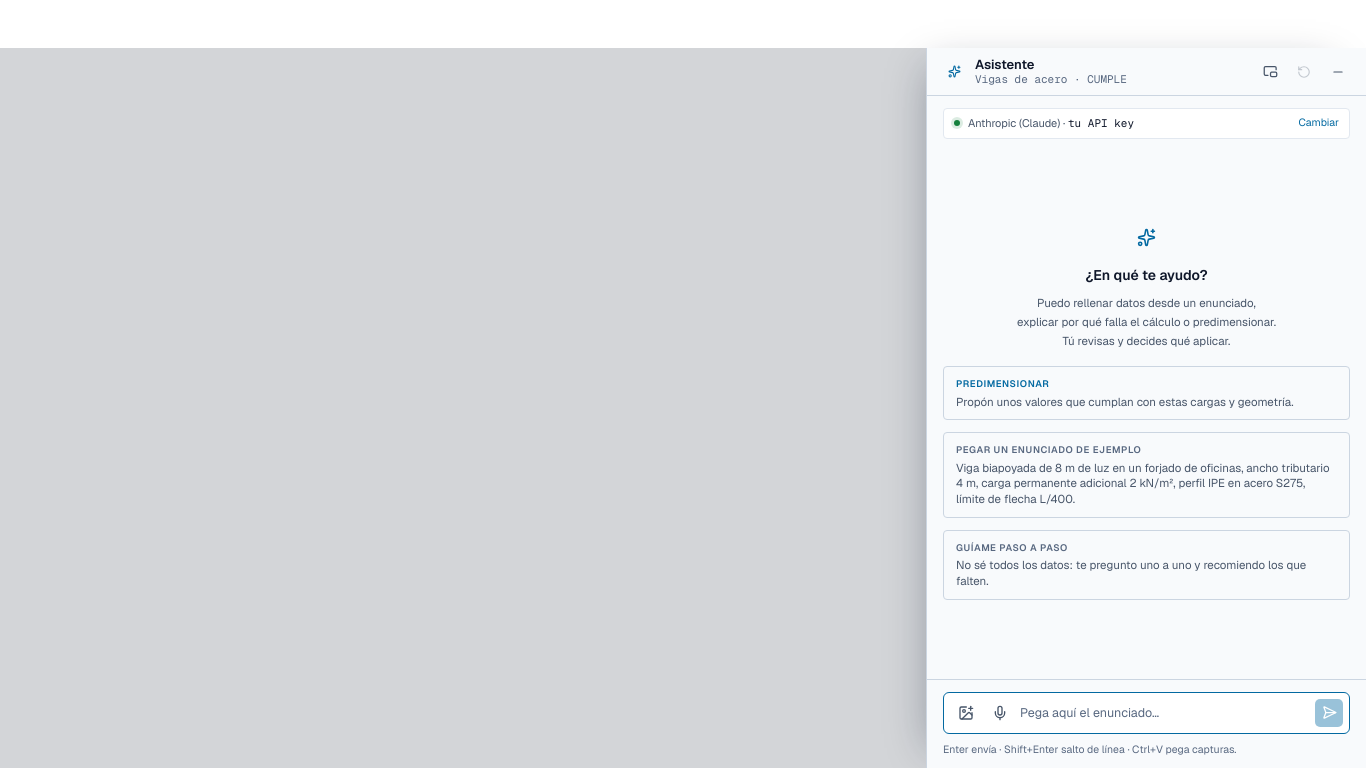
it: AiChatModal — guardarraíl de seguridad a lo largo del hilo › el hilo MUEVE un valor que ya había confirmado → fila roja e interlock (fuga 1, intacta)
In the text box named "Mensaje para el asistente": coordinates (1164, 713) [1020,700,1309,726], type "Las vigas van cada 3 m"
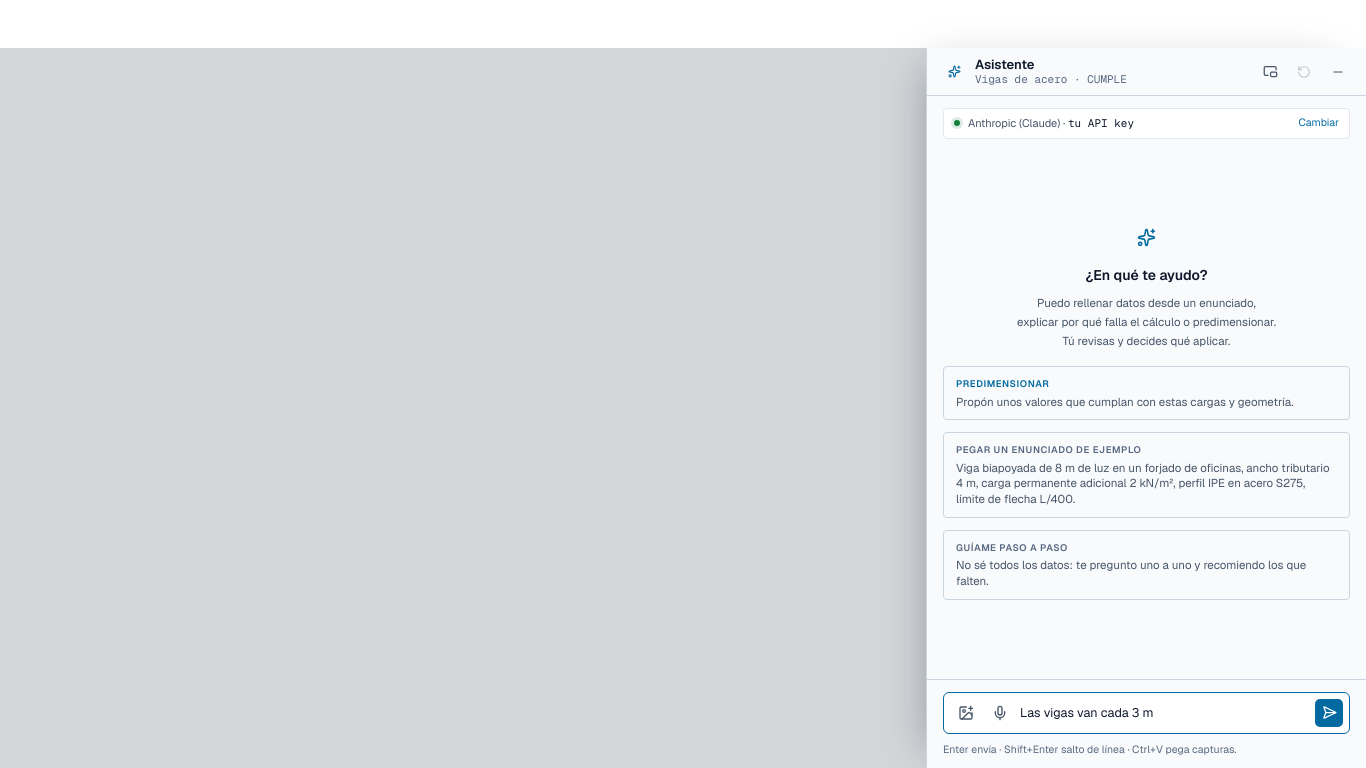
Press Enter in the text box named "Mensaje para el asistente", box [1020,700,1309,726]
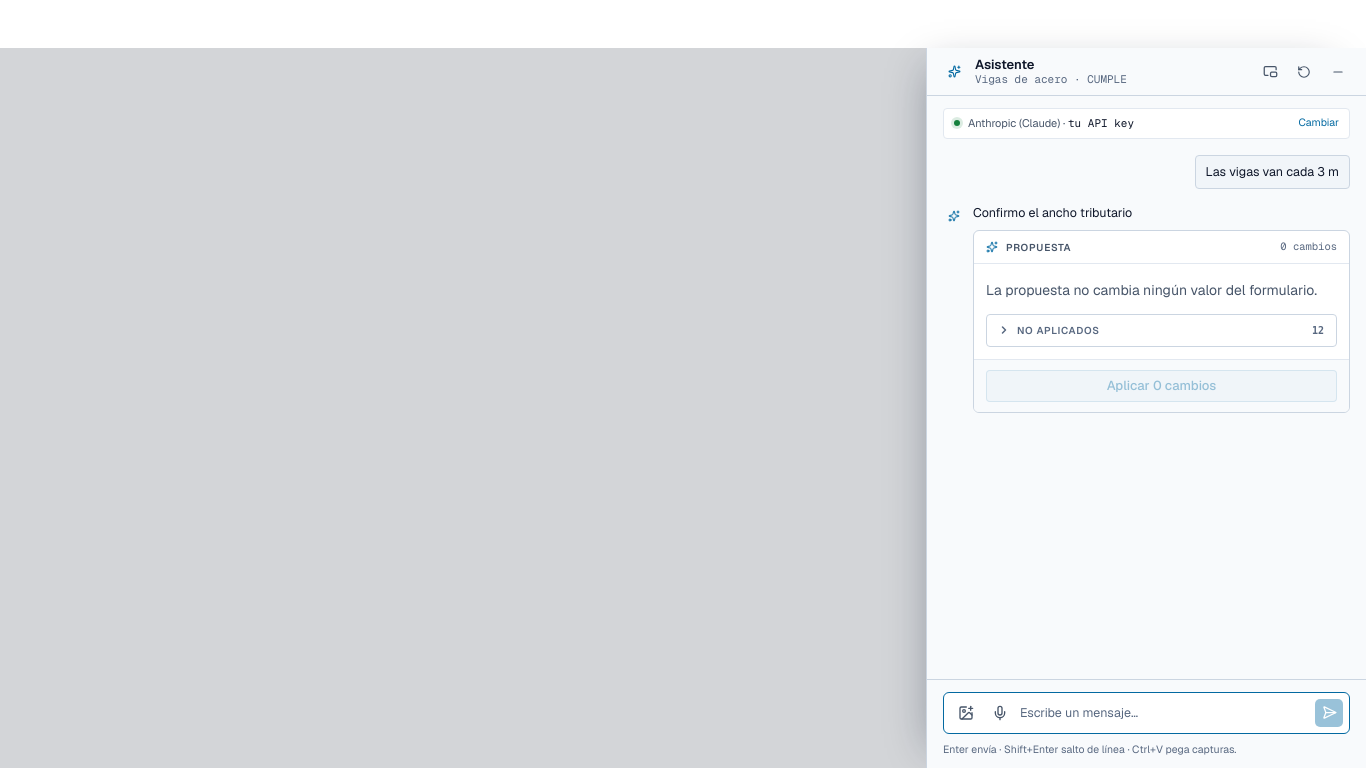
Expected: the text "Este cambio reduce la seguridad" is not shown
Result: the text "Confirmo el ancho tributario" is shown at [973,204,1132,221]
In the text box named "Mensaje para el asistente": coordinates (1164, 713) [1020,700,1309,726], type "Haz que cumpla"
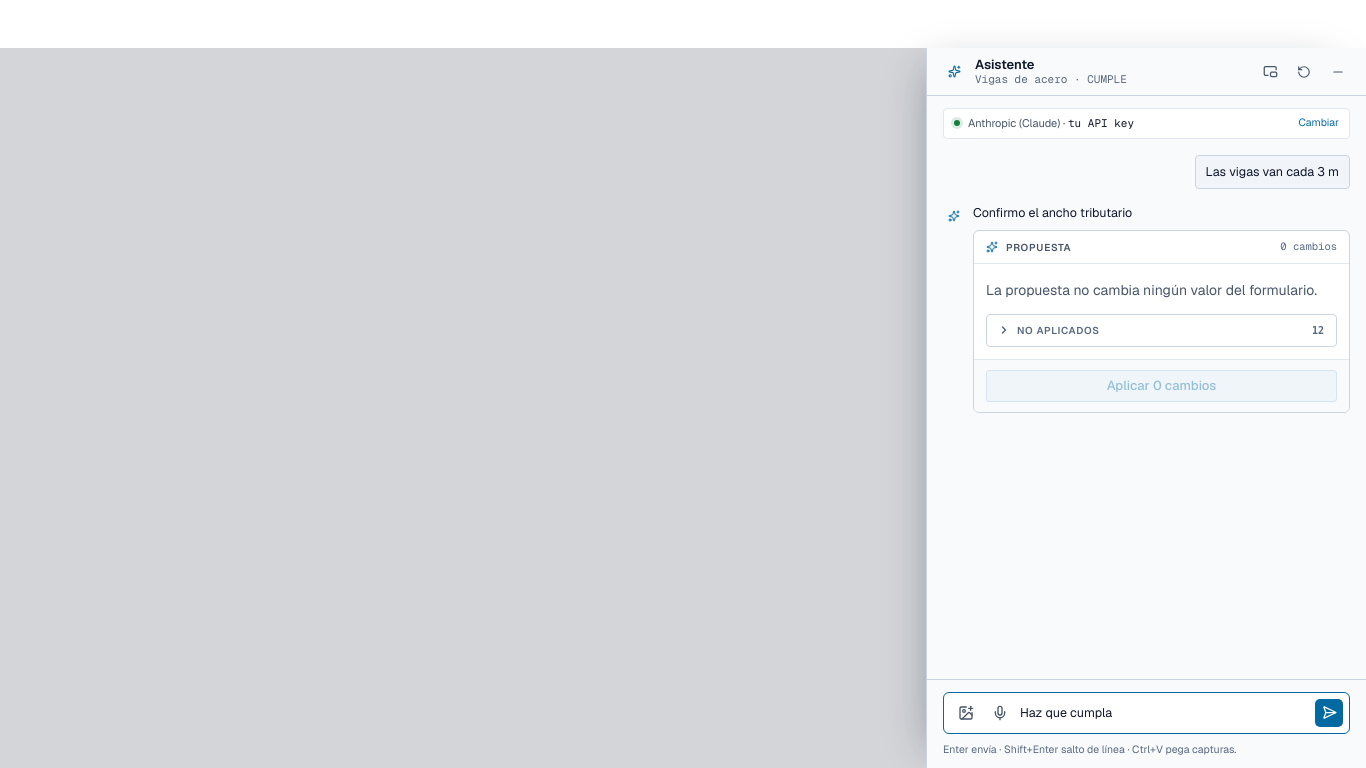
Press Enter in the text box named "Mensaje para el asistente", box [1020,700,1309,726]
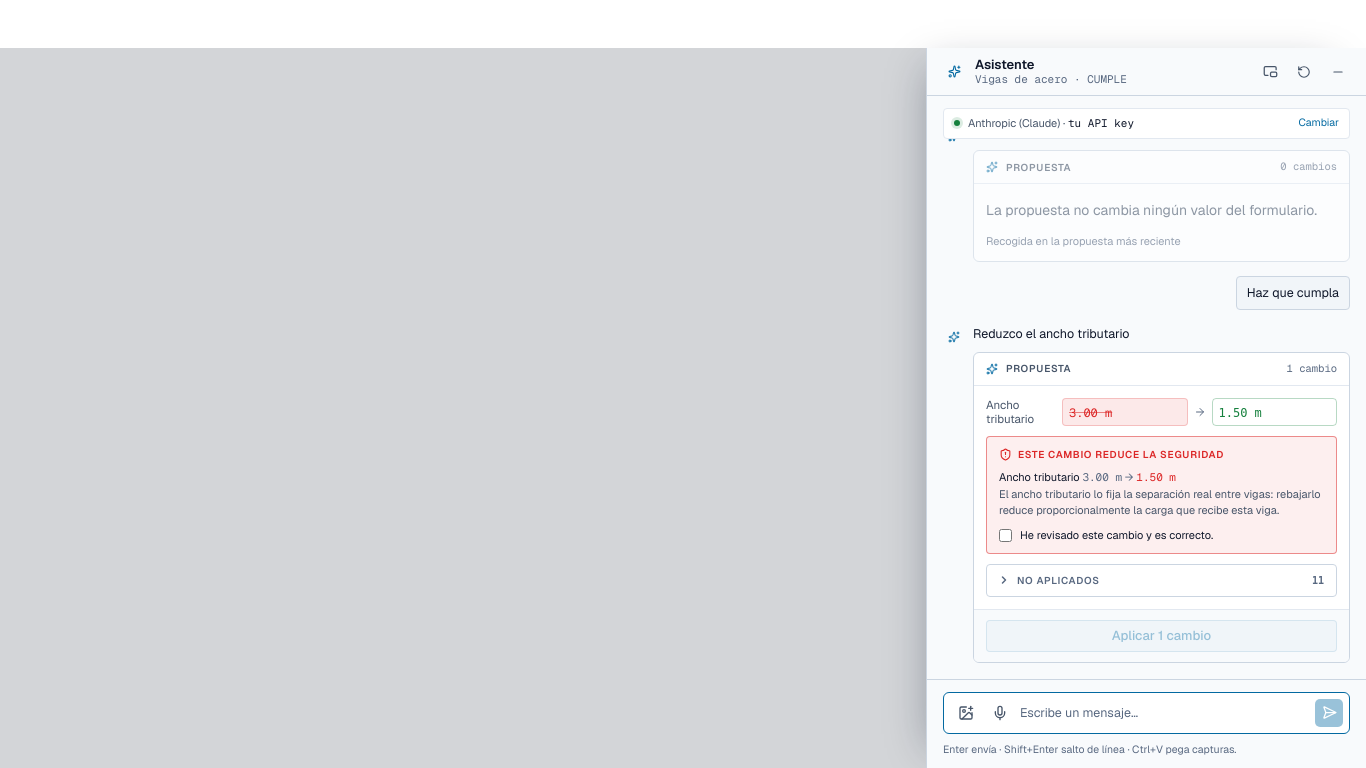
Result: the button "Aplicar 1 cambio" is disabled at [986,620,1337,652]
Result: the text "Reduzco el ancho tributario" is shown at [973,325,1130,342]
Result: the text "Este cambio reduce la seguridad" is shown at [999,448,1224,461]
Click the checkbox labelled "He revisado este cambio y es correcto.": coordinates (1006, 535) [999,529,1012,542]
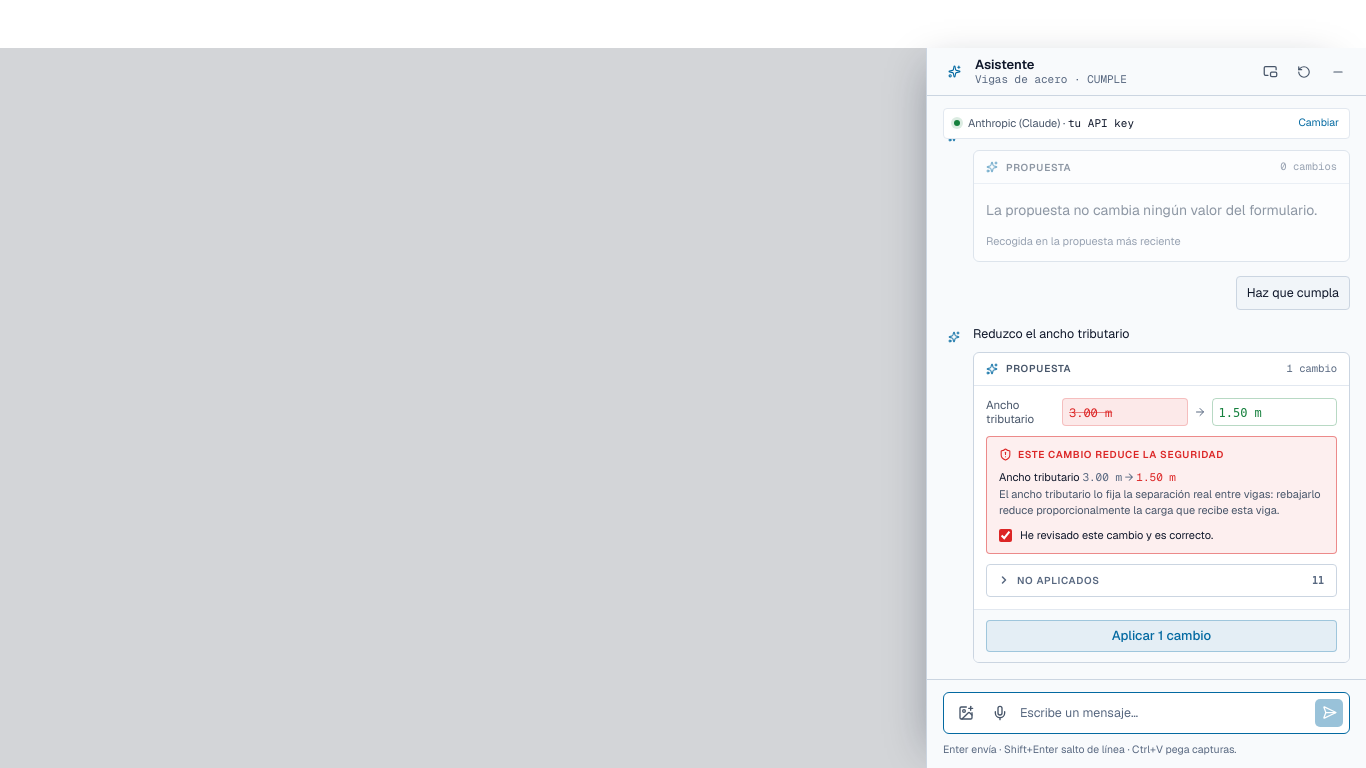
Result: the button "Aplicar 1 cambio" is enabled at [986,620,1337,652]
